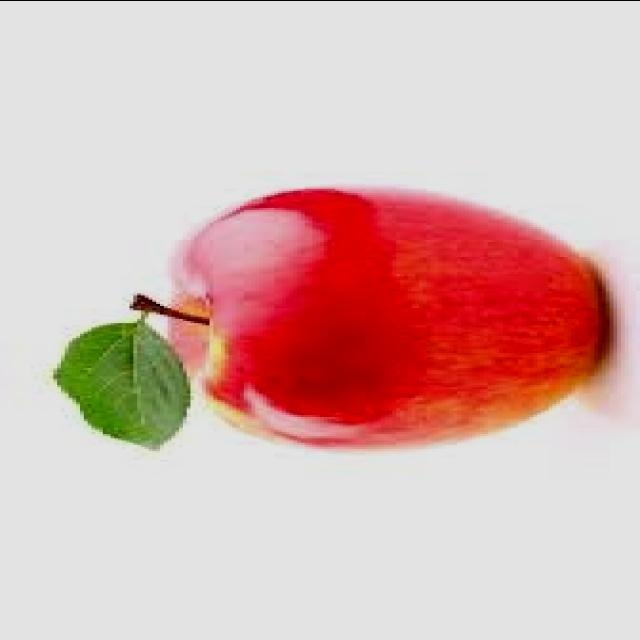agrume: (119, 158, 640, 525)
